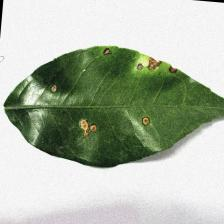canker: (45, 31, 182, 153)
